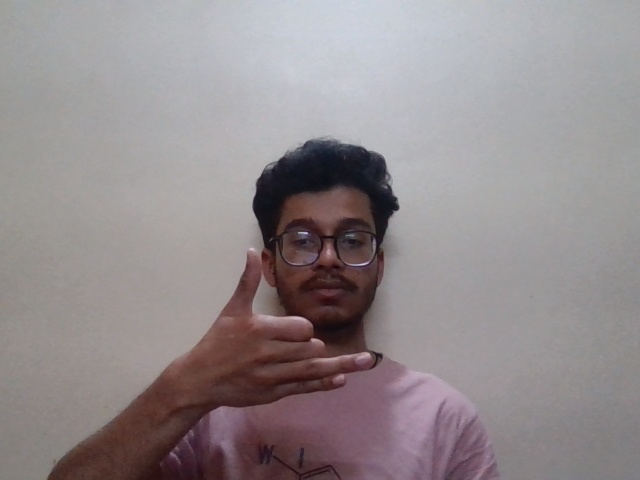project: (138, 241, 390, 421)
